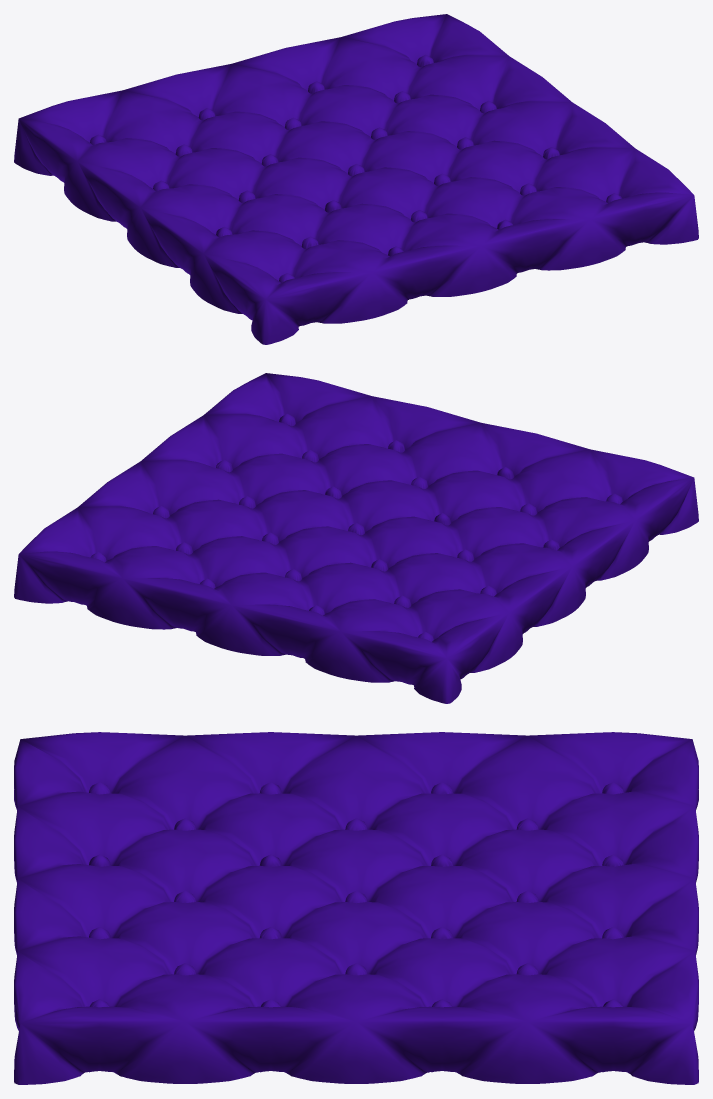
Rendered from floor.glb.
3 renders of one model, top to bottom at view 1: azimuth 30°, elevation 25°; view 2: azimuth 150°, elevation 25°; view 3: azimuth 270°, elevation 25°, orthographic. The views are drawn at different scales.
Visible parts, largest first — view 1: Cube_0; view 2: Cube_0; view 3: Cube_0.
Boxes of the visible parts, x1,y1,x2,y2 form: Cube_0: (14,14,698,344); Cube_0: (14,373,698,703); Cube_0: (14,732,698,1084).
Bounding box in the file's own units: 2 × 0.209 × 2.
